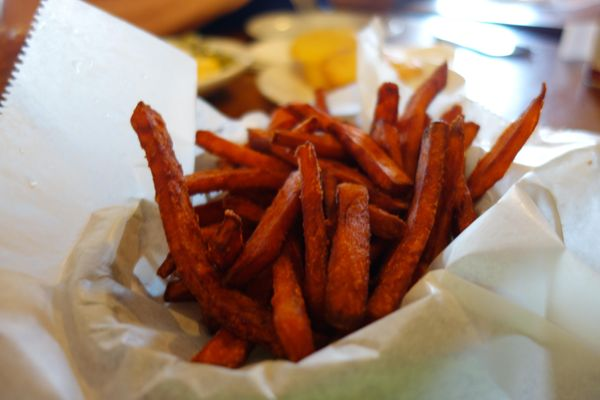pizza: (365, 113, 470, 319), (468, 82, 547, 201)
